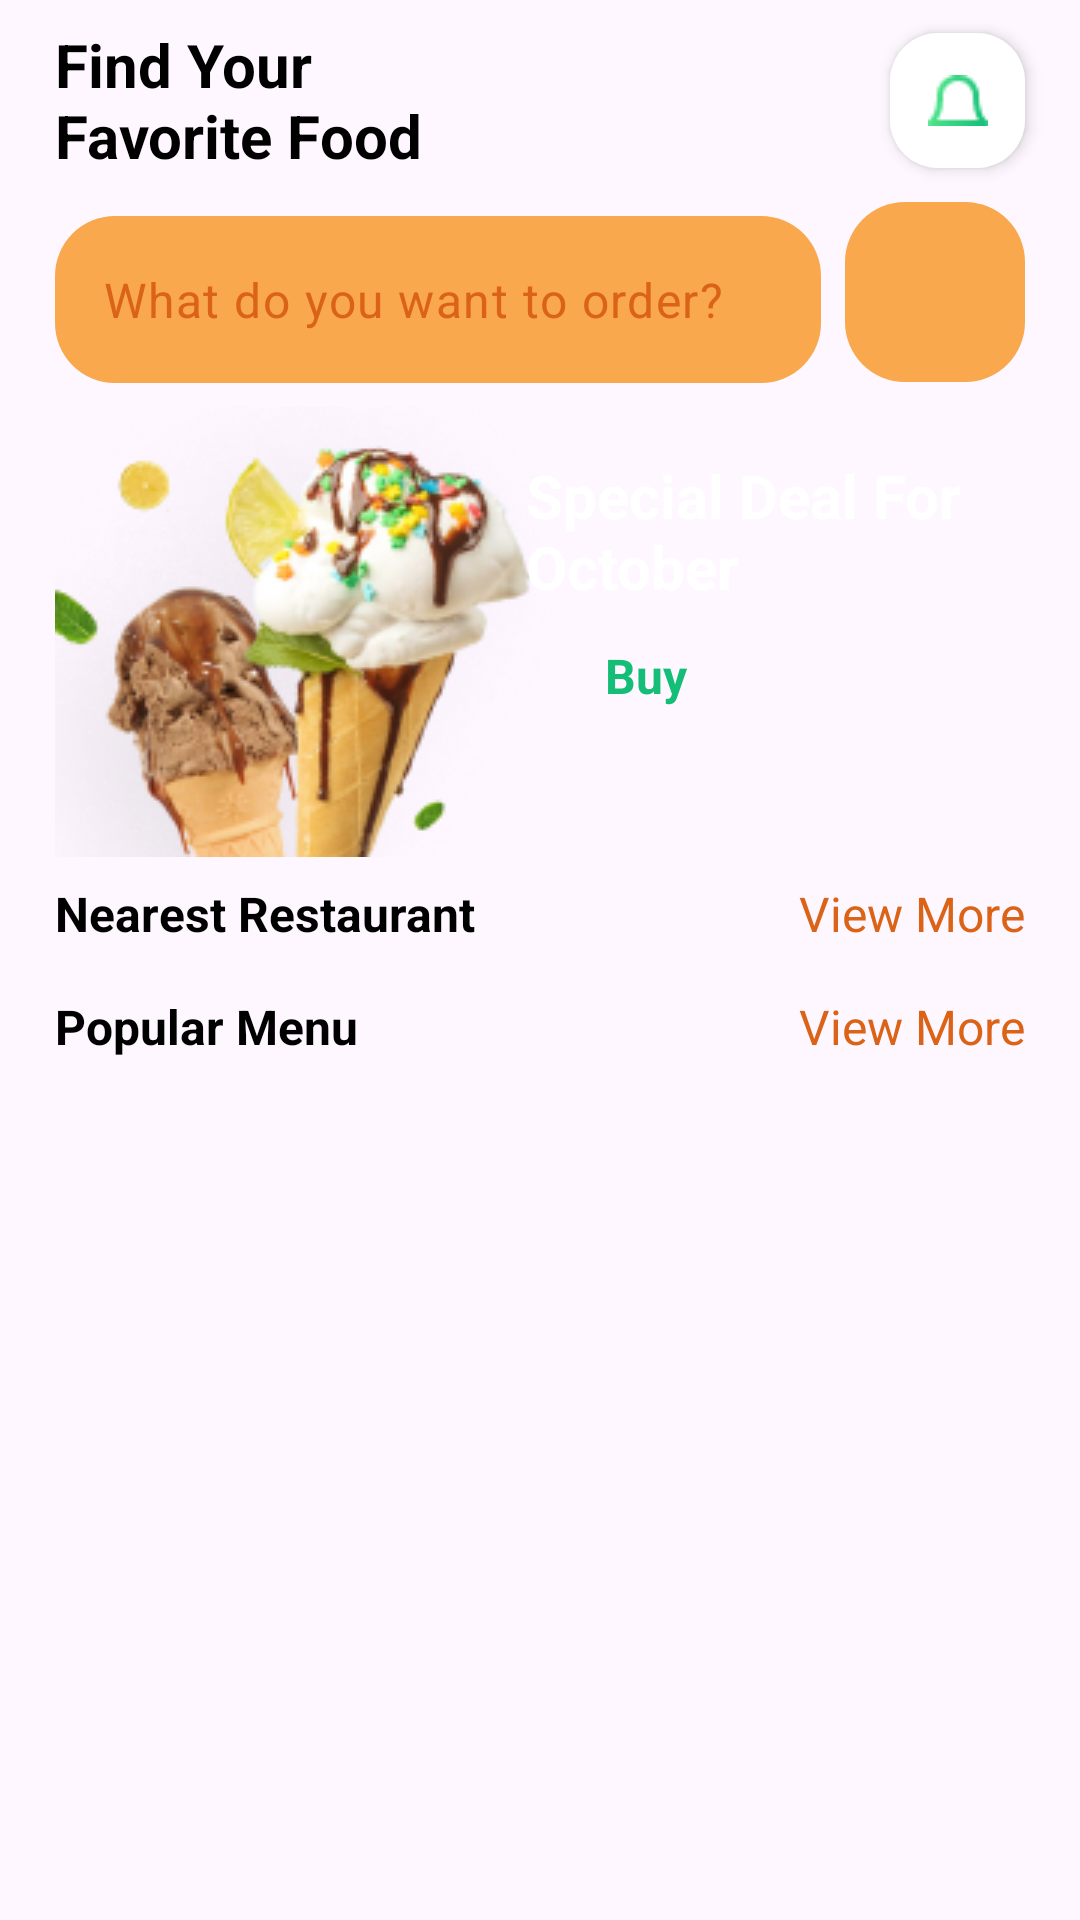

Where icons sit on this 1080px×1920px app screen, as [left=x1, top=y1, right=x2, bottom=y2]:
notification: [left=890, top=33, right=1025, bottom=168]
